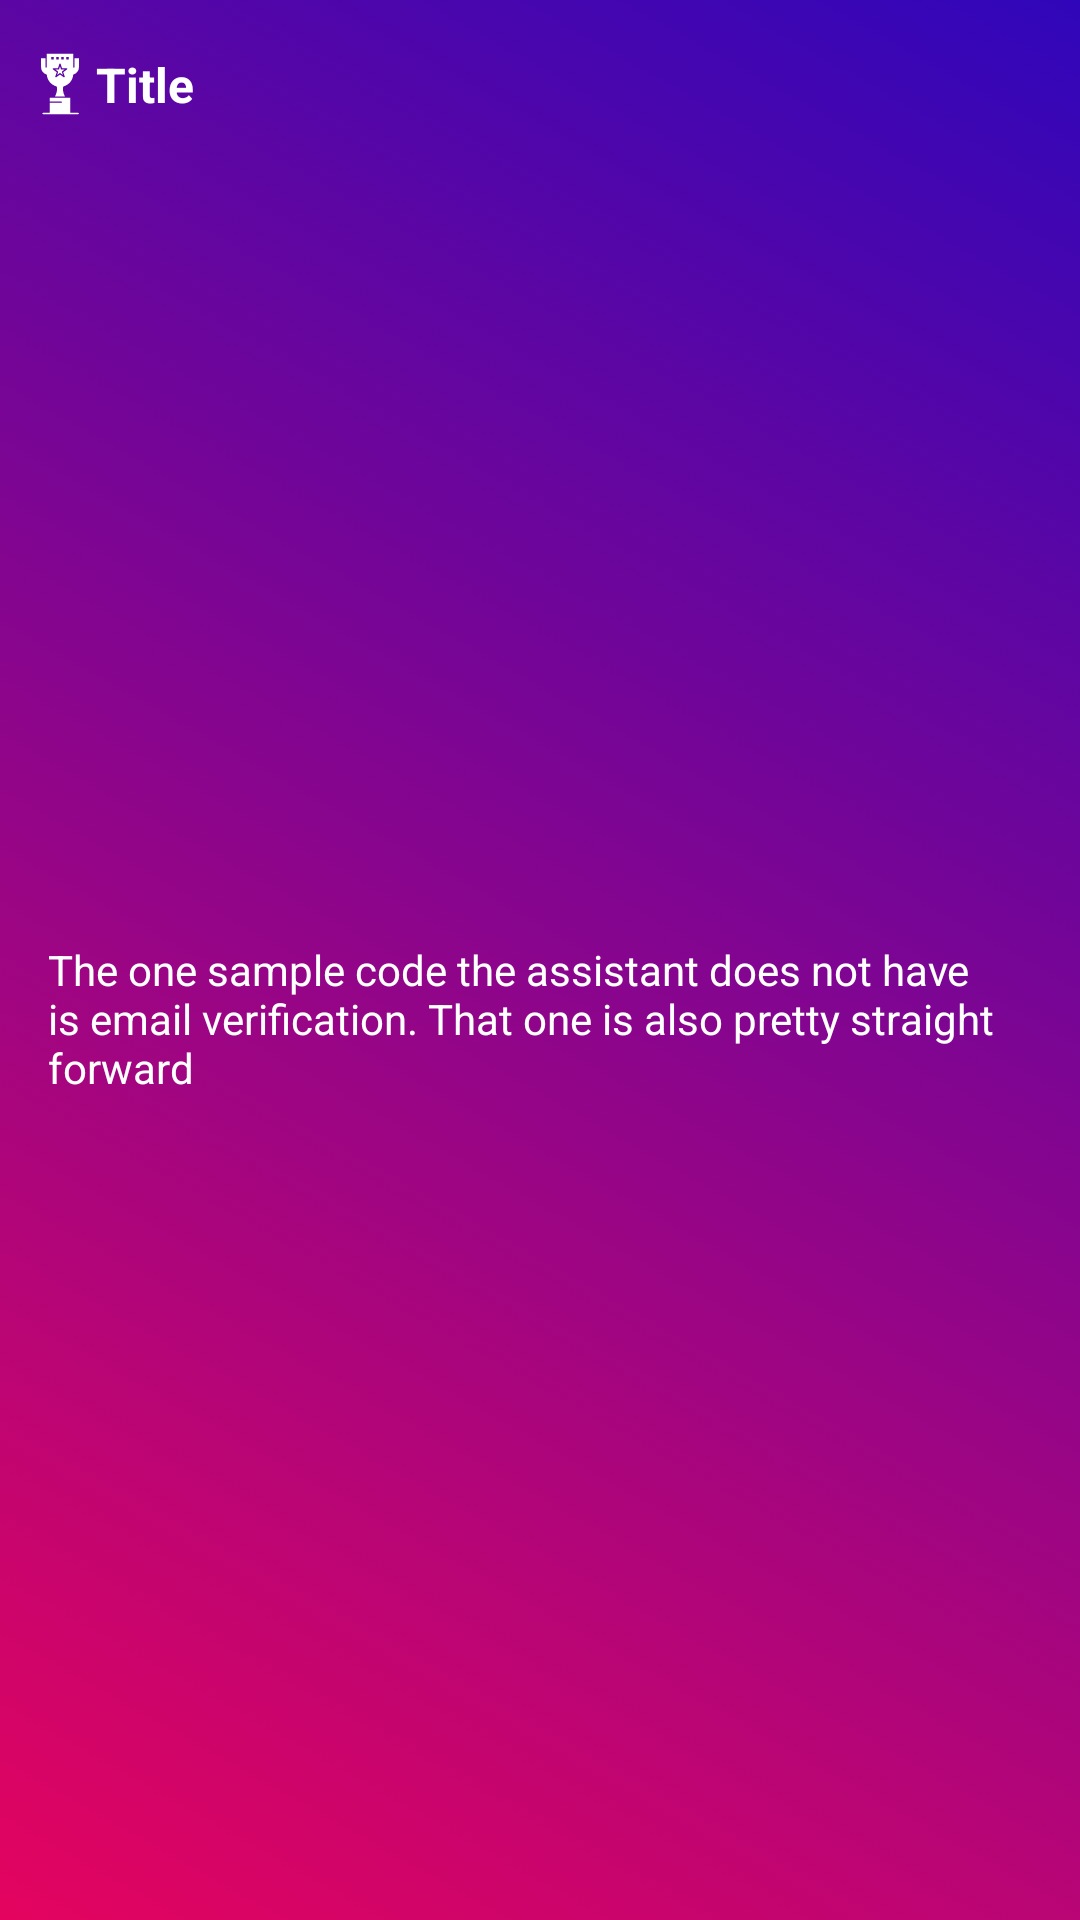

Icons on this 1080px×1920px Android screen, each with its box as bbox=(x1, y1, x2, y2):
rewards: bbox=(41, 53, 79, 115)
